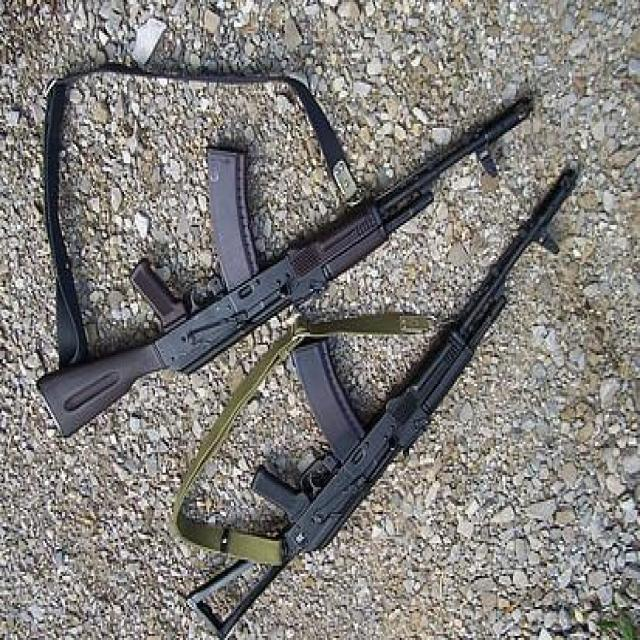weapon: (186, 166, 579, 640), (34, 94, 534, 440)
